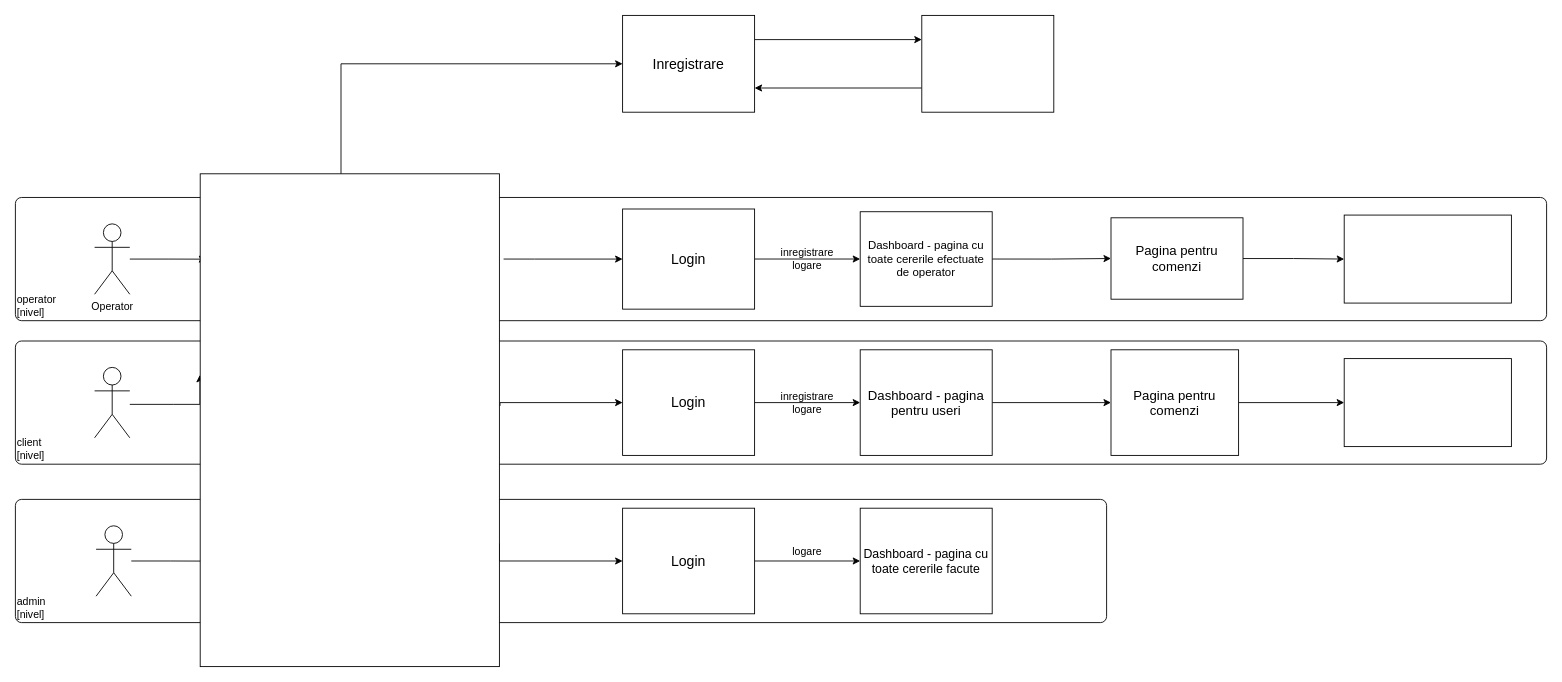
Some shapes in this 1562 by 682 pixel diagram are drawn without their labels. The box of each missing label's shape, as (x1, y1, x2, y2) in pixels:
Actualizare status comanda: (1343, 358, 1511, 447)
Adaugare/Editare/Stergere comanda: (1343, 214, 1511, 303)
Admin: (95, 525, 131, 596)
Client: (94, 367, 130, 438)
Index - pagina principala: (199, 173, 499, 667)
Register.php: (921, 15, 1054, 112)
